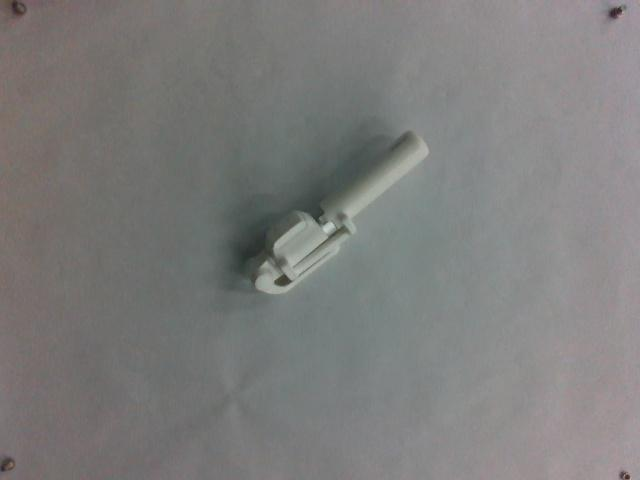selfiestick: (237, 127, 435, 299)
